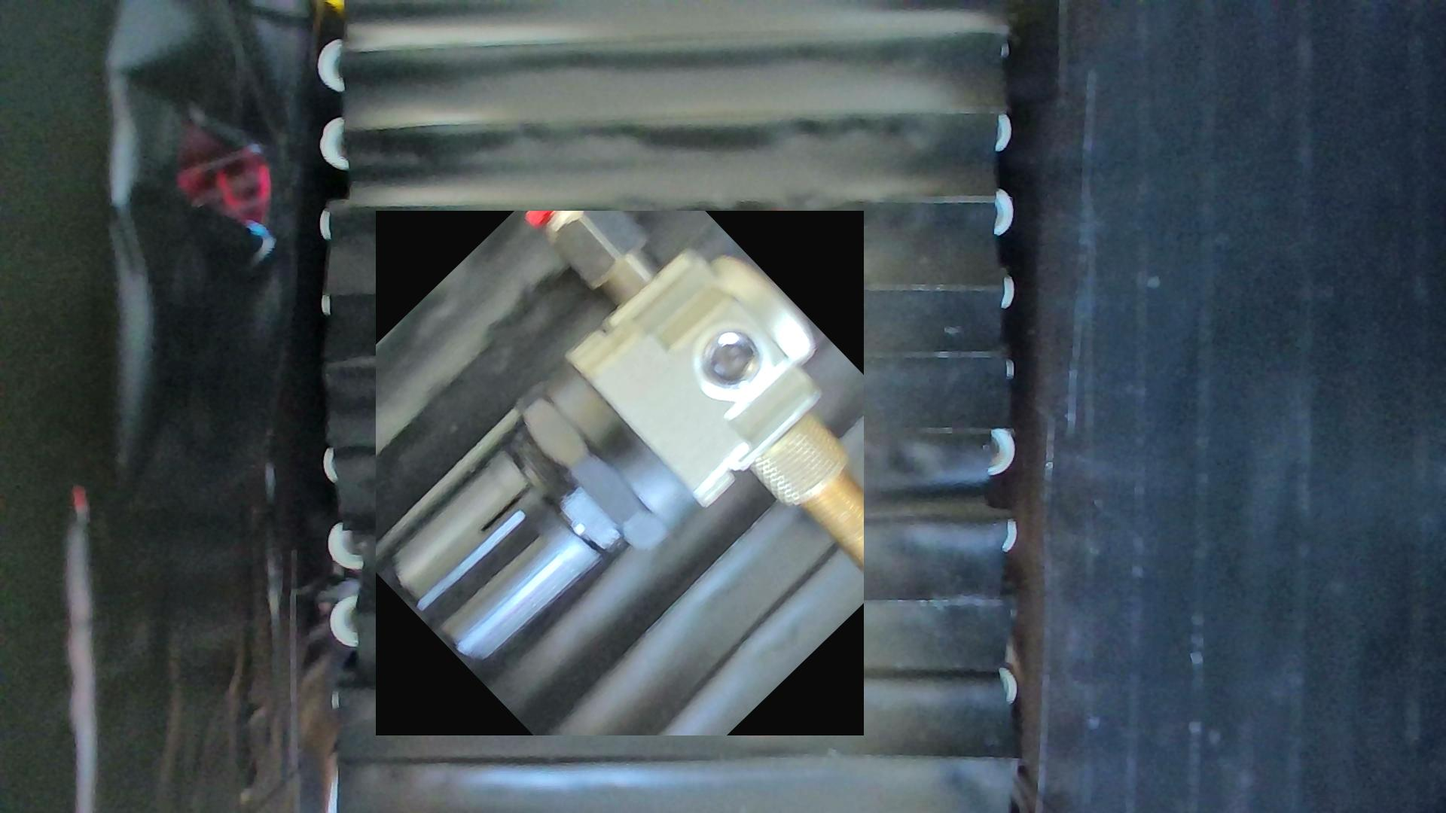regulator: (376, 211, 864, 735)
